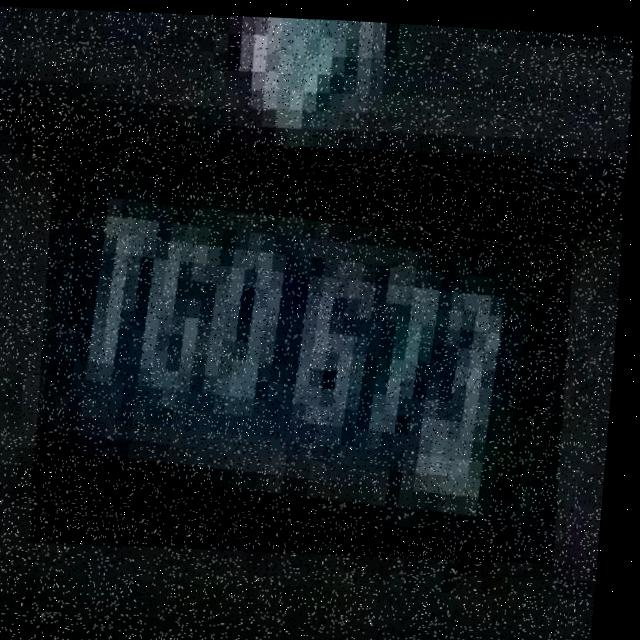LicensePlate: (31, 127, 588, 565)
